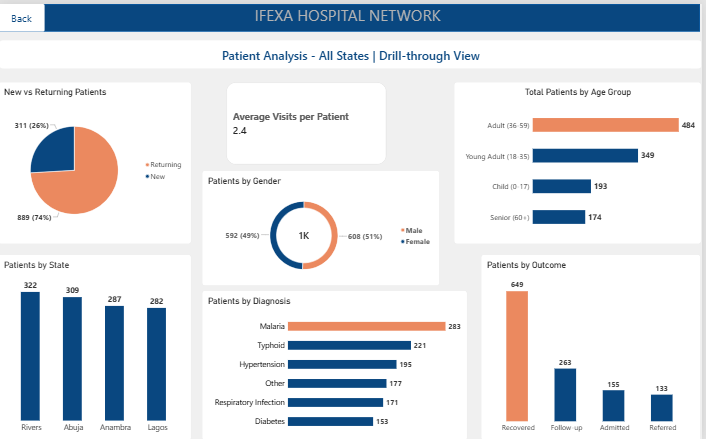

What the dashboard file says about the page in this screenshot:
{"tool":"powerbi","page":{"name":"Patient Analysis","canvas":[1953,1216],"ordinal":1},"visuals":[{"type":"shape","box":[0,0,1950,76.7],"z":0},{"type":"textbox","box":[76.7,0,1793.3,76.7],"z":1},{"type":"clusteredBarChart","title":"Total Patients by Age Group","fields":{"Category":["Patient_Visits.Age_Group"],"Y":["Date_Table.Total Patients"]},"box":[1266.7,216.7,686.7,450],"z":2},{"type":"donutChart","title":"Patients by Gender","fields":{"Category":["Patient_Visits.Gender"],"Y":["Date_Table.Total Patients"]},"box":[566.7,463.3,660,320],"z":3},{"type":"clusteredBarChart","title":"Patients by Diagnosis","fields":{"Category":["Patient_Visits.Diagnosis"],"Y":["Date_Table.Total Patients"]},"box":[566.7,796.7,736.7,416.7],"z":4},{"type":"clusteredColumnChart","title":"Patients by State","fields":{"Category":["State_Targets.State"],"Y":["Date_Table.Total Patients"]},"box":[0,696.7,536.7,516.7],"z":5},{"type":"pieChart","title":"New vs Returning Patients","fields":{"Category":["Patient_Visits.Patient_Type"],"Y":["Date_Table.Total Patients"]},"box":[0,216.7,536.7,450],"z":6},{"type":"columnChart","title":"Patients by Outcome","fields":{"Category":["Patient_Visits.Outcome"],"Y":["Date_Table.Total Patients"]},"box":[1340,696.7,610,516.7],"z":7},{"type":"cardVisual","title":"Average Visits per Patient","fields":{"Data":["Date_Table.Average Visits per Patient"]},"box":[633.3,216.7,446.7,230],"z":8},{"type":"cardVisual","fields":{"Data":["Date_Table.Title Patient Analysis"]},"box":[3.3,100,1950,80],"z":11},{"type":"actionButton","box":[0,0,130,77],"z":12}]}

Visuals, with their boxes in screenshot pixels (x1, y1, x2, y2), scaled from the page's 1953x1216 canvas onto the 706x439 screenshot:
shape: 0:0:705:28
textbox: 28:0:676:28
"Total Patients by Age Group" clusteredBarChart: 458:78:705:241
"Patients by Gender" donutChart: 205:167:443:283
"Patients by Diagnosis" clusteredBarChart: 205:288:471:438
"Patients by State" clusteredColumnChart: 0:252:194:438
"New vs Returning Patients" pieChart: 0:78:194:241
"Patients by Outcome" columnChart: 484:252:705:438
"Average Visits per Patient" cardVisual: 229:78:390:161
cardVisual - Date_Table.Title Patient Analysis: 1:36:705:65
actionButton: 0:0:47:28
